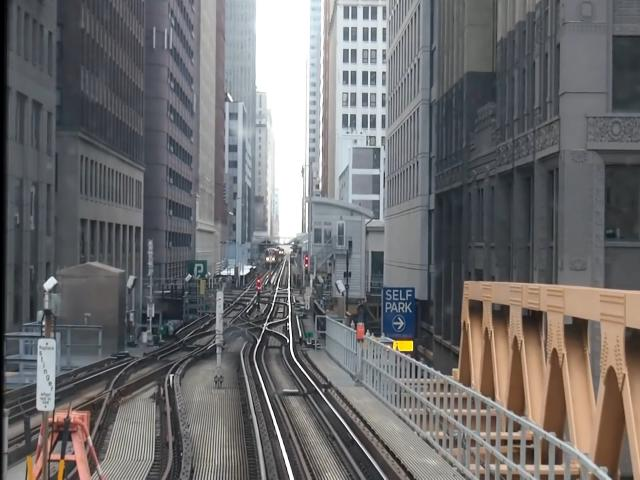signal light: (258, 277, 262, 313), (306, 256, 309, 277)
